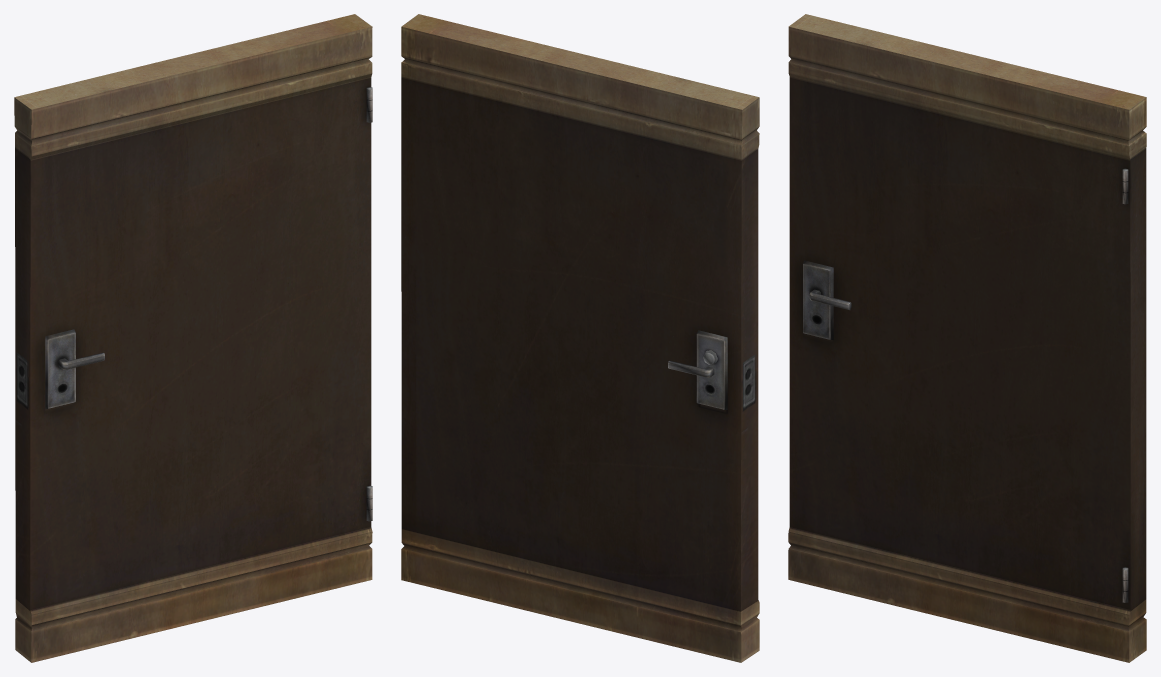
Rendered from swingdoor_office.dae.
3 renders of one model, left to right at view 1: azimuth 30°, elevation 25°; view 2: azimuth 150°, elevation 25°; view 3: azimuth 330°, elevation 25°, orthographic.
Parts seen in each view (by area): view 1: swingdoor_office; view 2: swingdoor_office; view 3: swingdoor_office.
Part boxes in pixels (x1,y1,x2,y2): swingdoor_office: [14, 14, 372, 662]; swingdoor_office: [401, 14, 759, 662]; swingdoor_office: [788, 14, 1146, 662].
Bounding box in the file's own units: 175 × 271 × 27.24.
